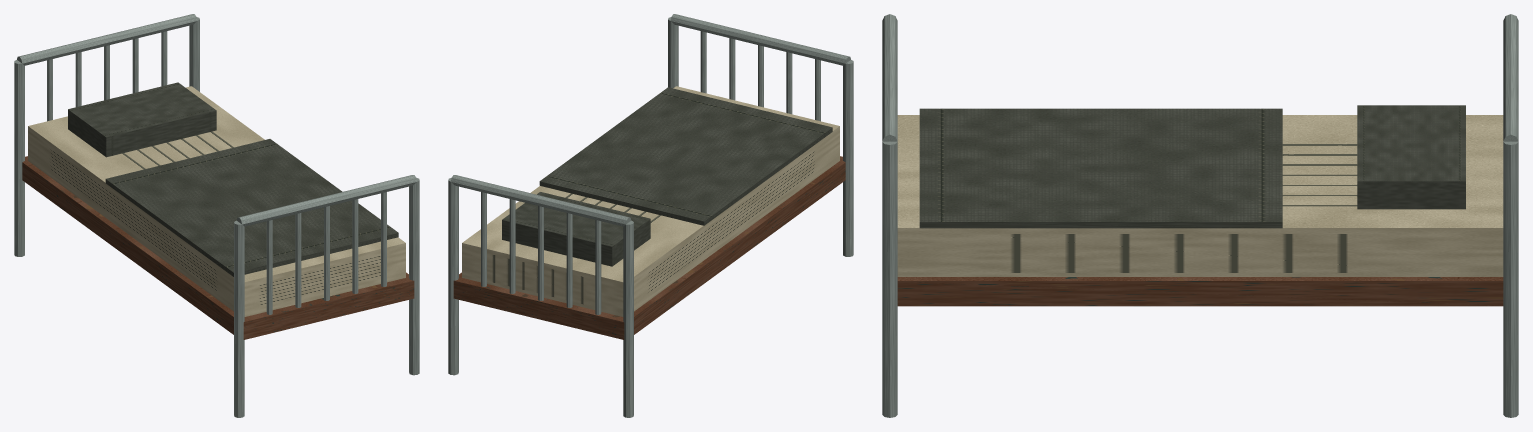
File: HospitalBed.glb
The picture shows the model from 3 angles, left to right: view 1: azimuth 30°, elevation 25°; view 2: azimuth 150°, elevation 25°; view 3: azimuth 270°, elevation 25°; orthographic projection. The views are drawn at different scales.
Parts seen in each view (by area): view 1: HospitalBed; view 2: HospitalBed; view 3: HospitalBed.
Part boxes in pixels (left/top/right/bottom): HospitalBed: left=14, top=14, right=419, bottom=417; HospitalBed: left=448, top=14, right=853, bottom=417; HospitalBed: left=882, top=14, right=1518, bottom=417.
Size of the model in its own units: 0.97 by 0.995 by 2.05.
4 materials, 4 textured.
